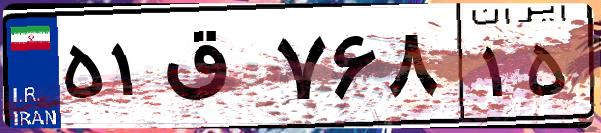1: (475, 38, 525, 113), (110, 28, 158, 98)
5: (57, 26, 110, 100), (525, 38, 570, 115)
6: (330, 28, 385, 110)
7: (270, 28, 330, 110)
8: (385, 28, 445, 110)
ق: (158, 20, 270, 120)
